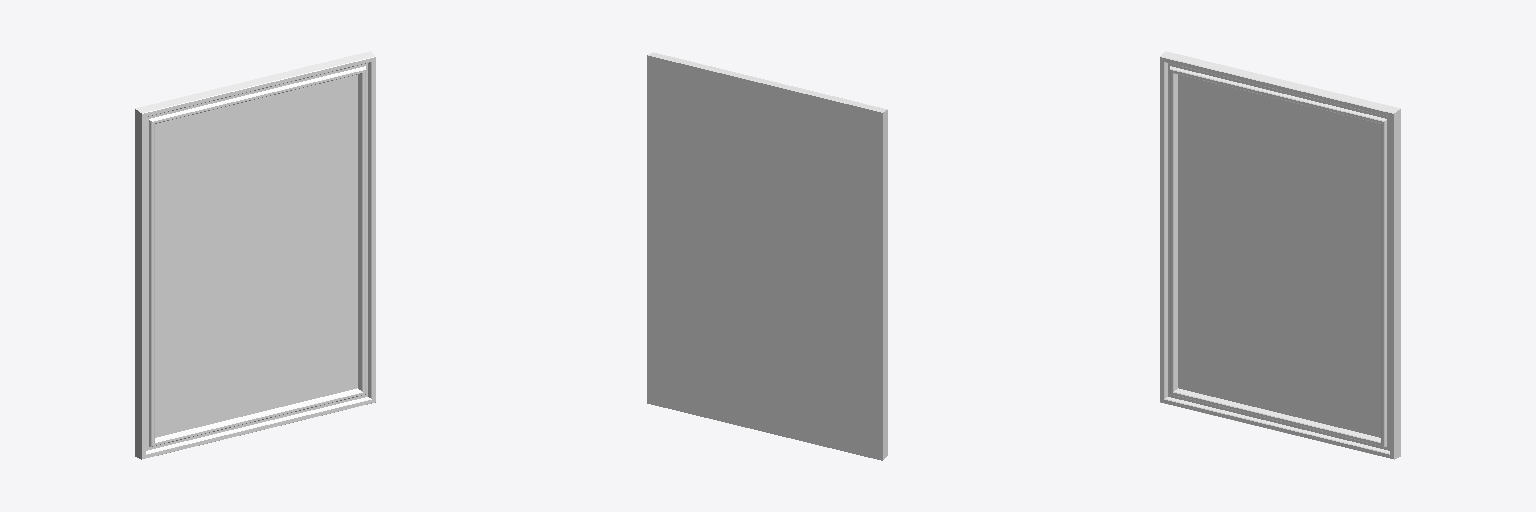
3 renders of one model, left to right at view 1: azimuth 30°, elevation 25°; view 2: azimuth 150°, elevation 25°; view 3: azimuth 330°, elevation 25°, orthographic.
Visible parts, largest first — view 1: aws_PortraitE_01_visualMesh; view 2: aws_PortraitE_01_visualMesh; view 3: aws_PortraitE_01_visualMesh.
Boxes of the visible parts, x1=… form: aws_PortraitE_01_visualMesh: x1=135, y1=51, x2=375, y2=459; aws_PortraitE_01_visualMesh: x1=647, y1=52, x2=887, y2=460; aws_PortraitE_01_visualMesh: x1=1160, y1=51, x2=1400, y2=459.
Size of the model in its own units: 0.5413 by 0.7635 by 0.0238.